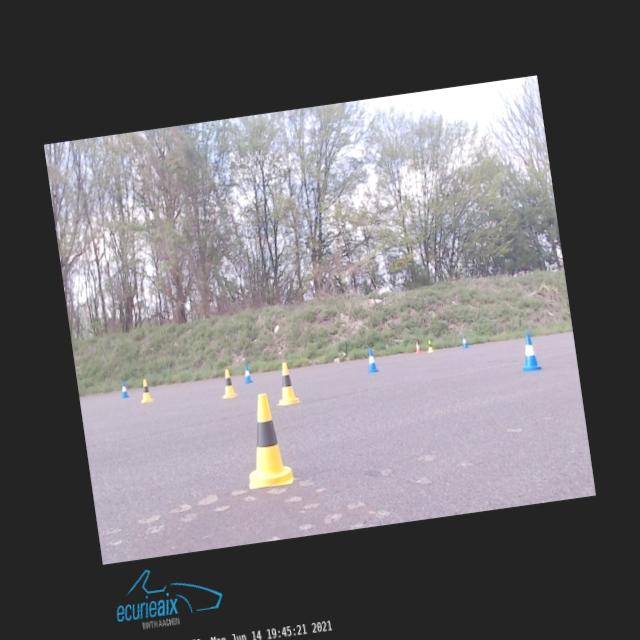blue_cone: (518, 333, 542, 372), (364, 349, 378, 373), (242, 364, 254, 384), (120, 381, 130, 398), (461, 334, 468, 349)
orange_cone: (414, 340, 422, 353)
yellow_cone: (236, 391, 294, 490), (271, 361, 302, 406), (218, 368, 238, 398), (138, 378, 153, 402), (426, 340, 434, 352)
